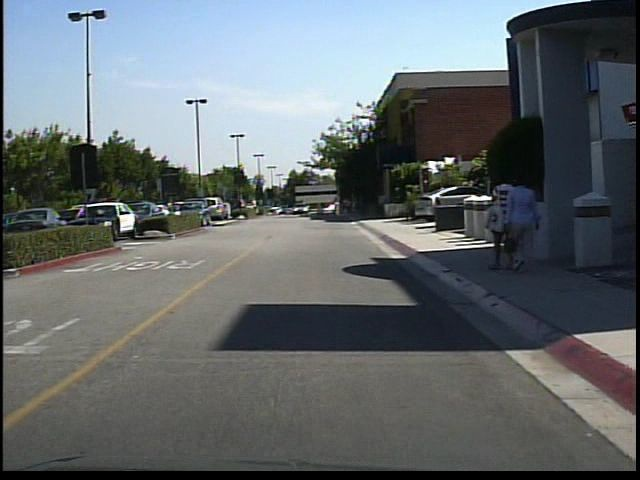person: (502, 172, 538, 274), (487, 169, 513, 275), (246, 192, 262, 220), (333, 196, 344, 221)
